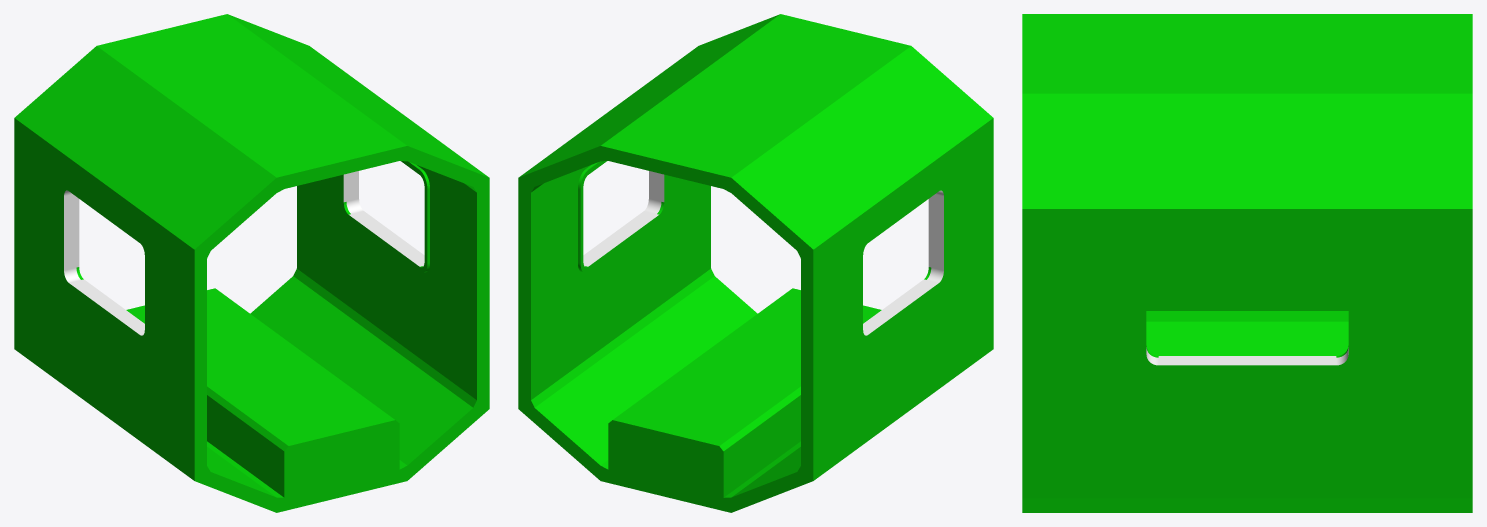
The model's file is corridor_window.obj.
3 renders of one model, left to right at view 1: azimuth 30°, elevation 25°; view 2: azimuth 150°, elevation 25°; view 3: azimuth 270°, elevation 25°, orthographic. The views are drawn at different scales.
Parts seen in each view (by area): view 1: object1; view 2: object1; view 3: object1.
Boxes of the visible parts, x1,y1,x2,y2 form: object1: (14, 14, 489, 512); object1: (518, 14, 993, 512); object1: (1022, 14, 1472, 512).
Bounding box in the file's own units: 70 × 76 × 74.
